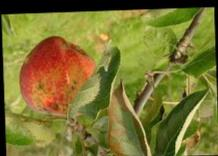rotten apple: (14, 35, 100, 120)
